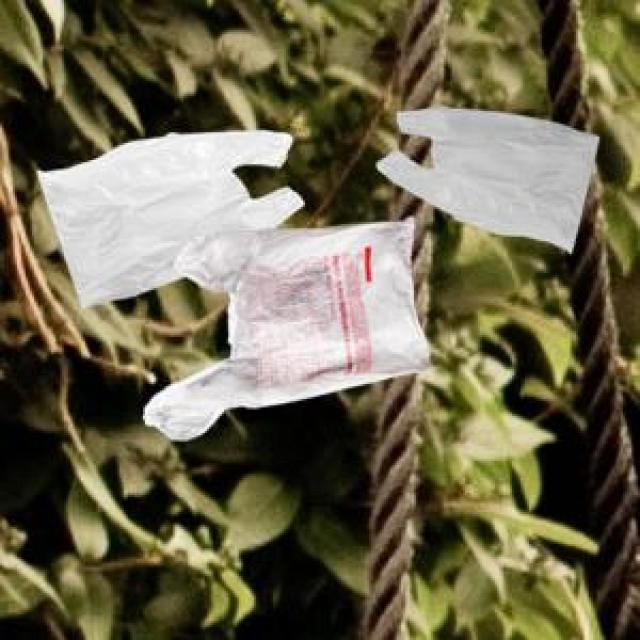Bolsa-de-plastico: (163, 223, 420, 435), (38, 132, 292, 280), (395, 108, 590, 245)
